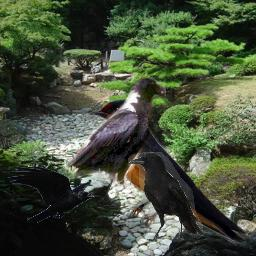Crow: (63, 73, 166, 188), (128, 152, 204, 242), (7, 165, 95, 223)
Swallow: (87, 99, 247, 246)
